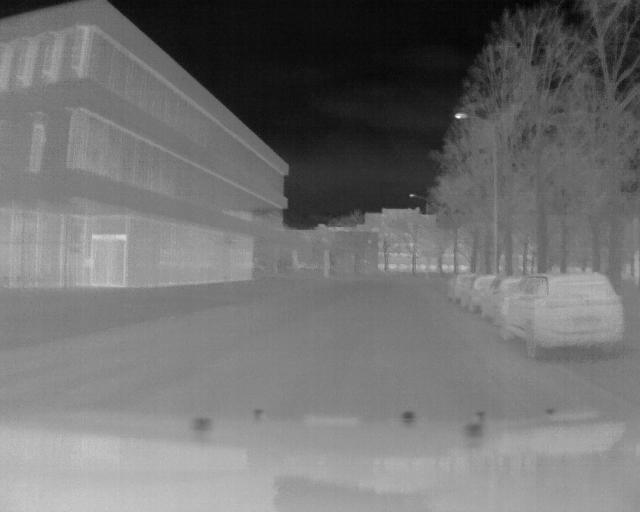car: (500, 269, 623, 356)
